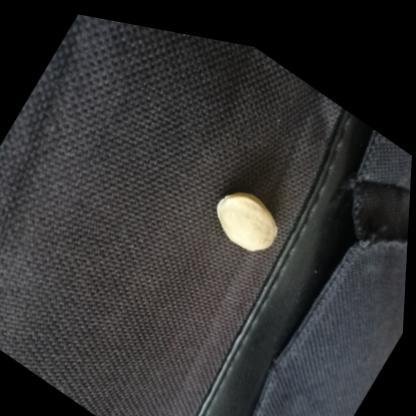pistachio: (215, 188, 279, 253)
